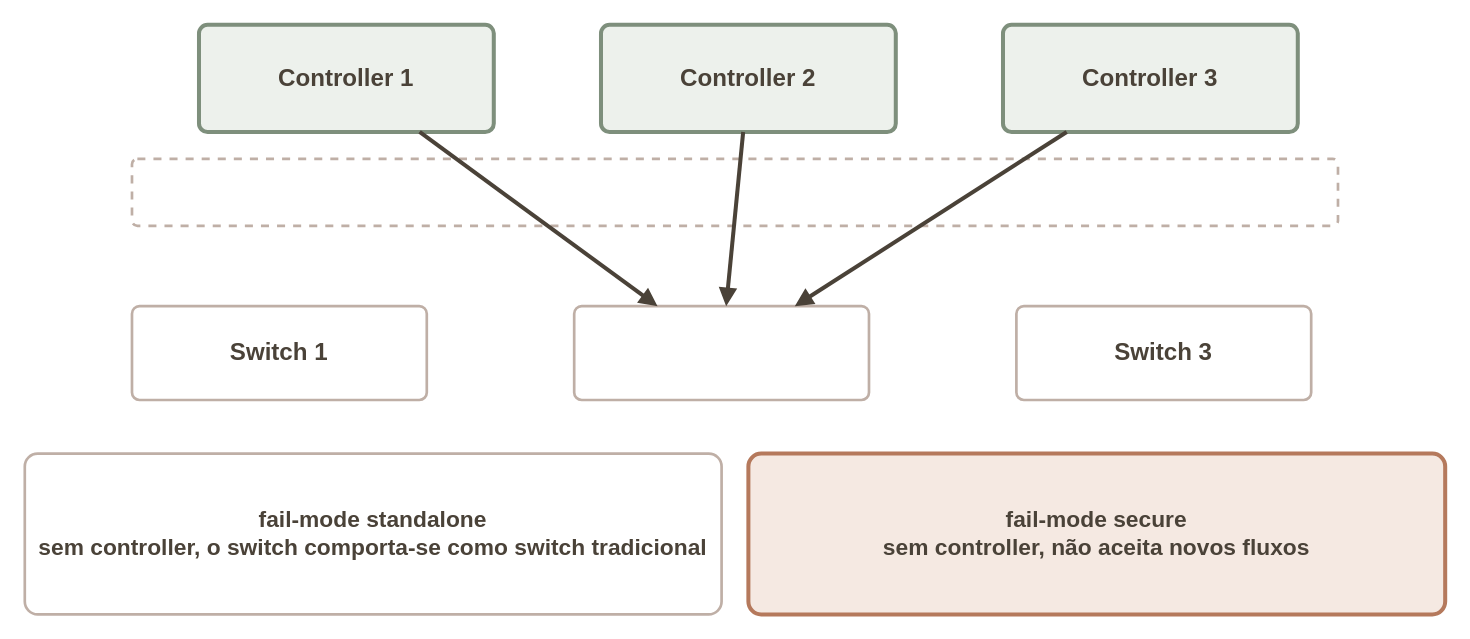
The diagram is 1470 pixels wide and 639 high, and some of its shapes have lost their labels. Here are the shapes that lost their labels. From the top down, the centre of each, then its label:
(x=734, y=191): Cluster de controllers: estado replicado
(x=721, y=352): Switch 2
